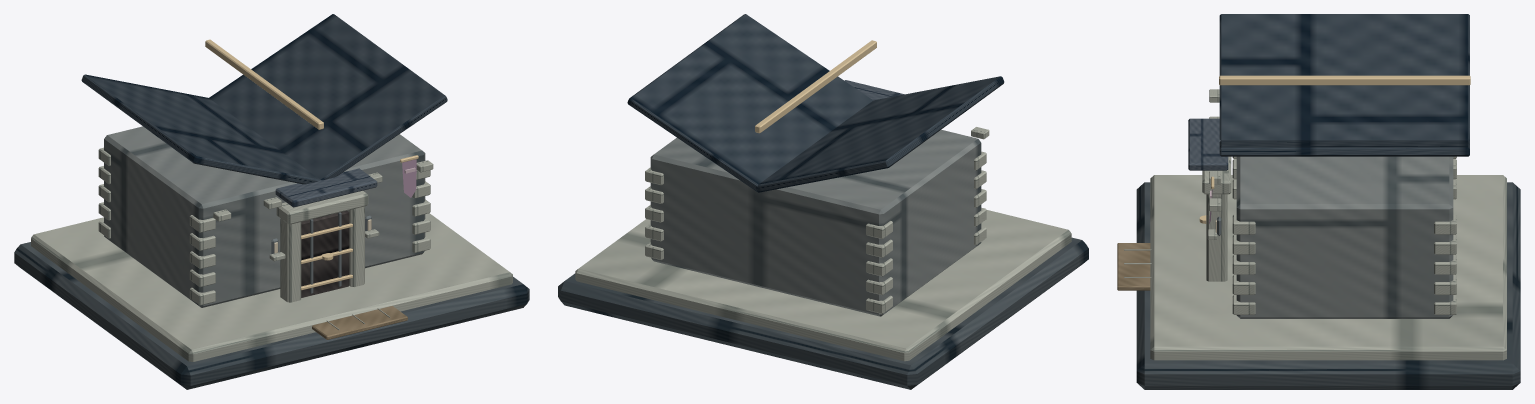
File: Bastion_01.glb
3 views of the same model, side by side, from view 1: azimuth 30°, elevation 25°; view 2: azimuth 150°, elevation 25°; view 3: azimuth 270°, elevation 25° (orthographic). The views are drawn at different scales.
Visible parts, largest first — view 1: Main keep - ashlar walls, Dressed foundation, Keep/right, Rock-and-masonry plinth, Keep/left, Two oak gate leaves.004, Gate overhang, Gate pier.008, Gate paving, Lintel crown.004, Keep/ridge, Gate pier.009 (+1 smaller); view 2: Main keep - ashlar walls, Dressed foundation, Keep/right, Rock-and-masonry plinth, Keep/left, Keep/ridge, Gate overhang; view 3: Main keep - ashlar walls, Dressed foundation, Keep/left, Rock-and-masonry plinth, Keep/right, Keep/ridge, Gate overhang, Gate pier.009, Gate paving, Lintel crown.004, Corner ashlar.015, Corner ashlar.014 (+1 smaller).
Part boxes in pixels (x1,y1,x2,y2): Main keep - ashlar walls: (104, 126, 425, 307); Dressed foundation: (31, 213, 512, 361); Keep/right: (209, 14, 447, 180); Rock-and-masonry plinth: (14, 242, 529, 389); Keep/left: (81, 74, 320, 184); Two oak gate leaves.004: (301, 211, 349, 297); Gate overhang: (275, 168, 377, 207); Gate pier.008: (280, 218, 301, 302); Gate paving: (312, 306, 407, 339); Lintel crown.004: (276, 190, 368, 224); Keep/ridge: (205, 39, 323, 129); Gate pier.009: (348, 206, 364, 286); Main keep - ashlar walls: (650, 129, 981, 316); Dressed foundation: (575, 210, 1071, 361); Keep/right: (627, 14, 872, 192); Rock-and-masonry plinth: (558, 237, 1088, 389); Keep/left: (756, 76, 1004, 192); Keep/ridge: (755, 40, 876, 133); Gate overhang: (844, 80, 904, 100); Main keep - ashlar walls: (1236, 156, 1453, 318); Dressed foundation: (1150, 175, 1506, 360); Keep/left: (1219, 14, 1469, 141); Rock-and-masonry plinth: (1136, 182, 1520, 389); Keep/right: (1219, 140, 1469, 156); Keep/ridge: (1219, 75, 1470, 85); Gate overhang: (1188, 118, 1228, 170); Gate pier.009: (1206, 194, 1227, 281); Gate paving: (1117, 243, 1150, 290); Lintel crown.004: (1202, 156, 1231, 194); Corner ashlar.015: (1232, 214, 1255, 234); Corner ashlar.014: (1232, 234, 1255, 254).
Bounding box in the file's own units: 10.45 × 5.76 × 9.47.
Materials: 14 (8 with a texture image).
